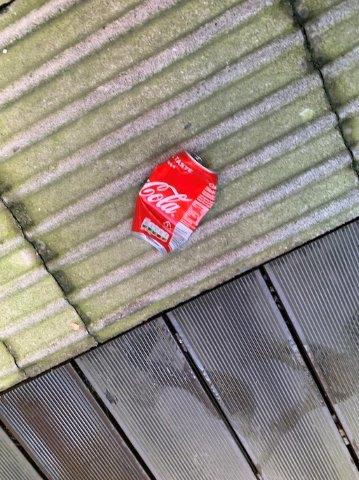kaleng: (132, 150, 218, 253)
